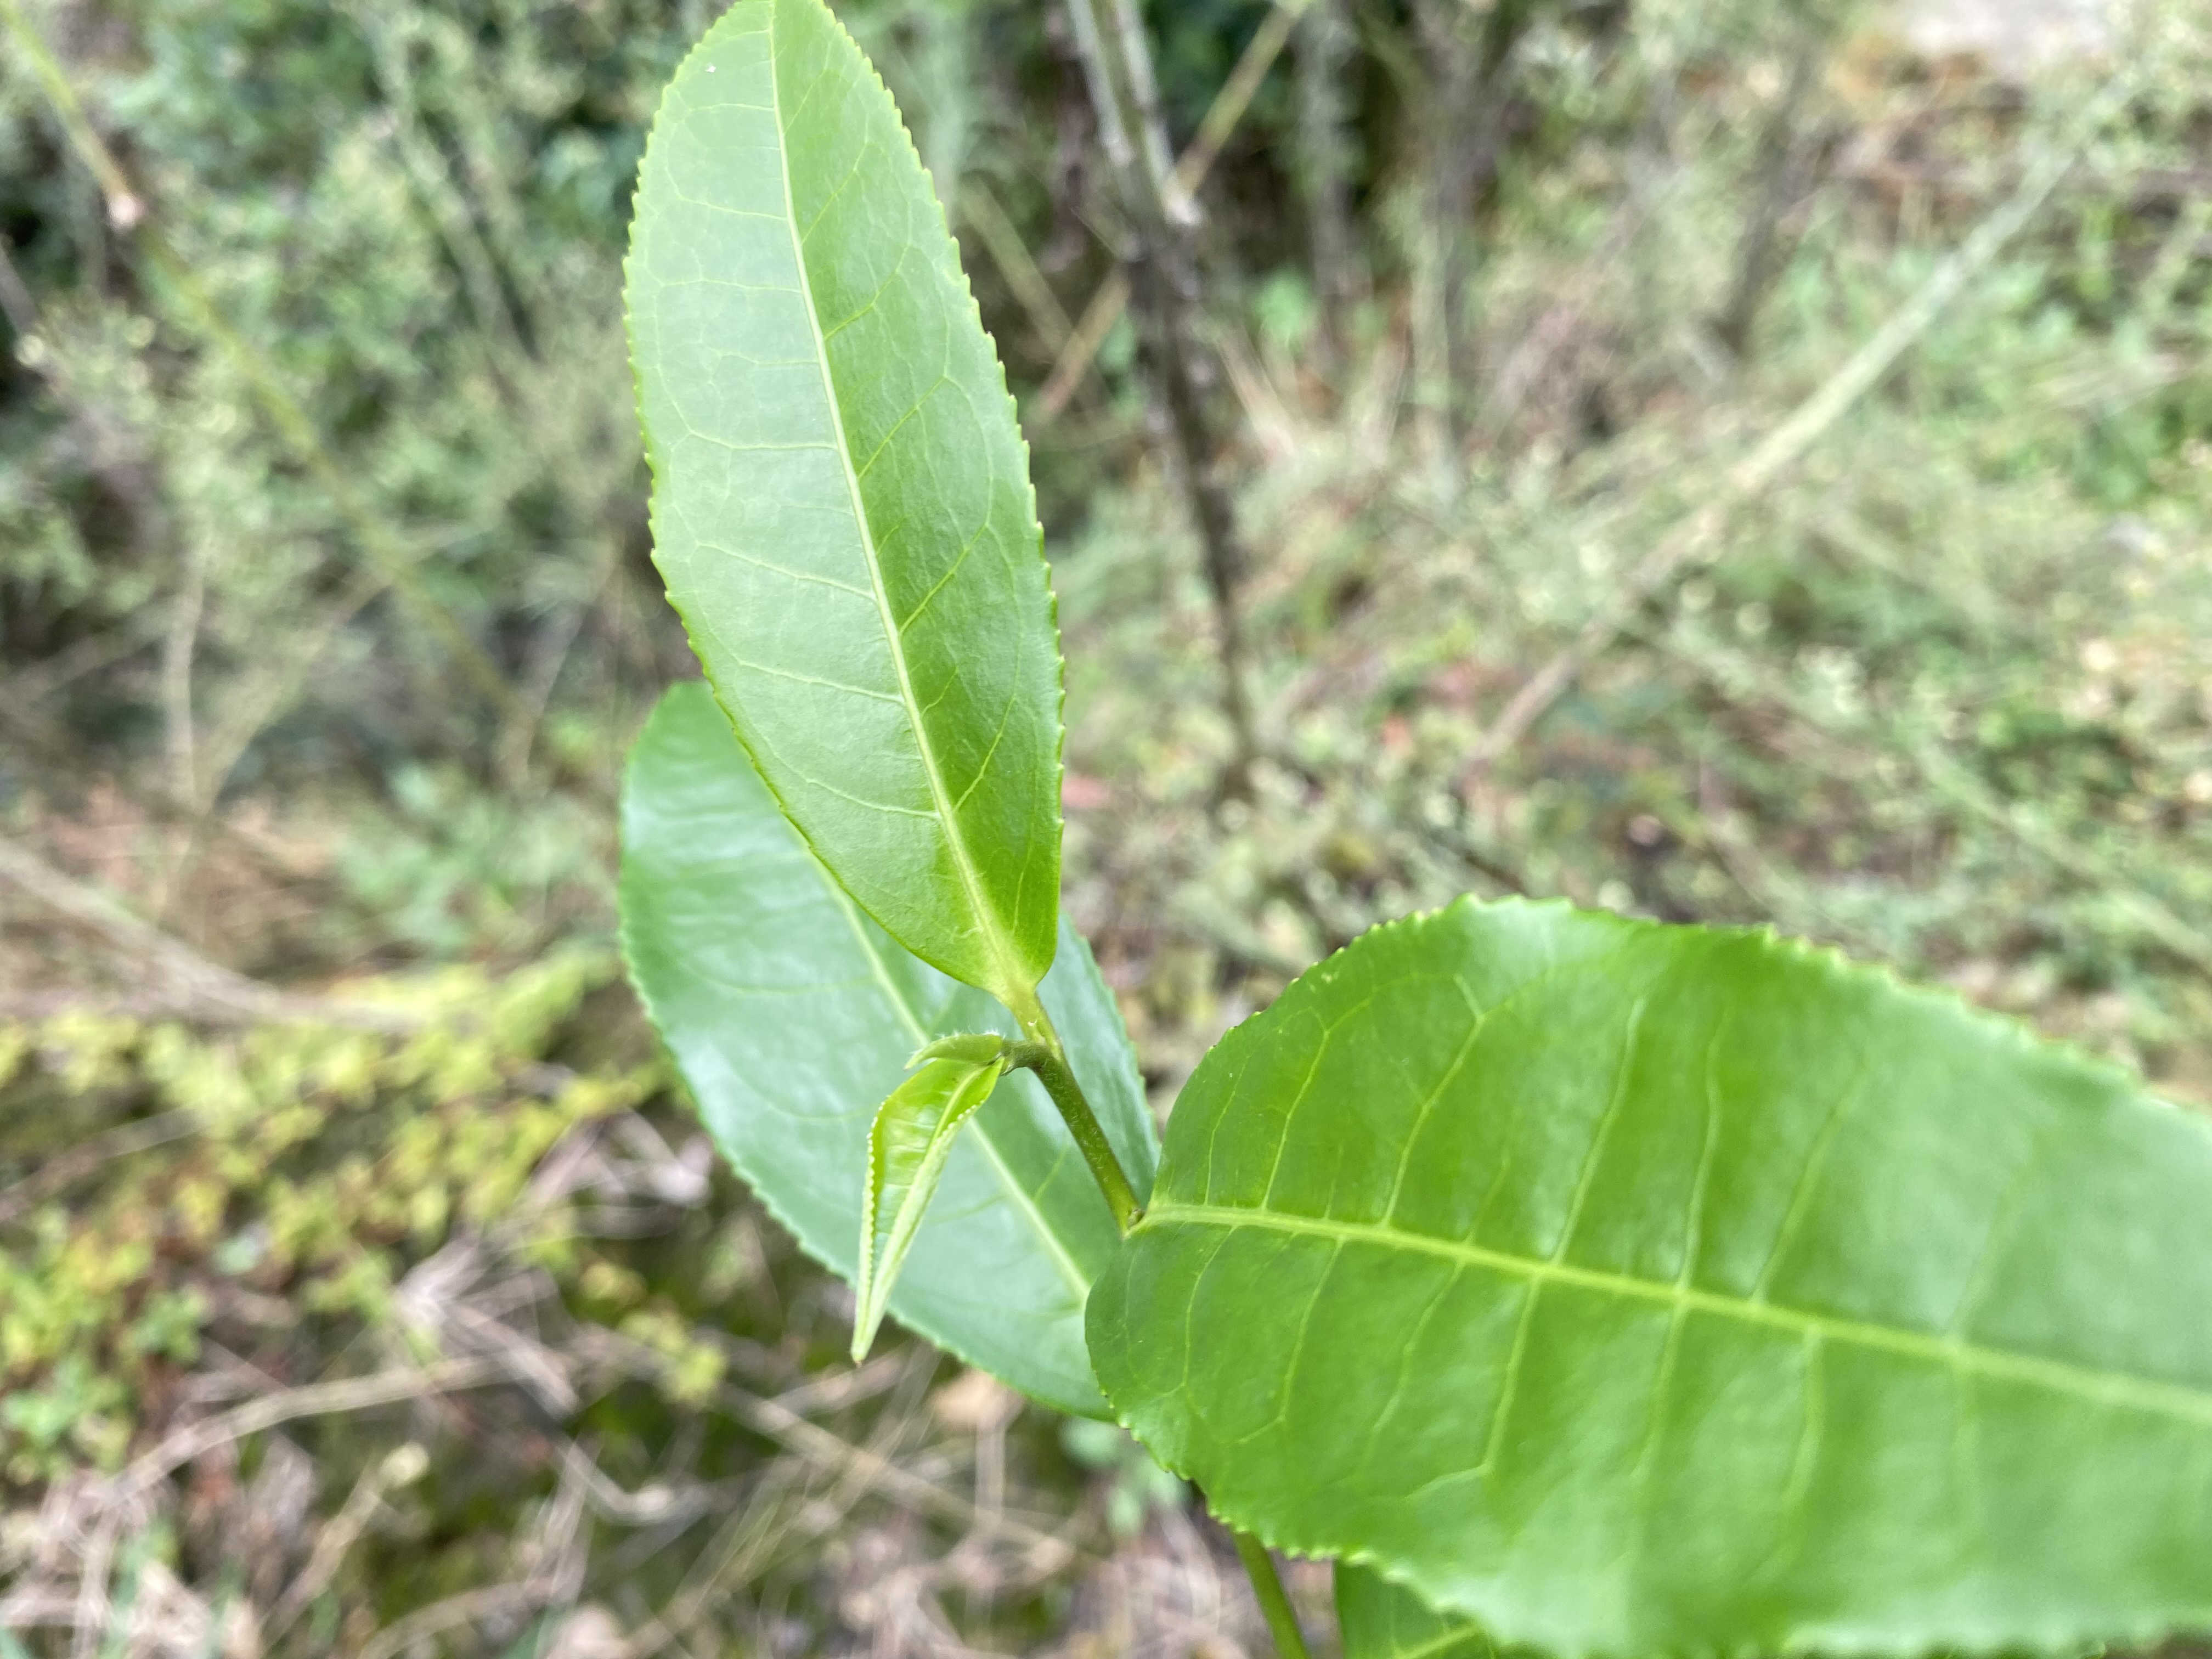healthy: (1083, 889, 2210, 1656), (617, 2, 1068, 990), (613, 678, 1158, 1419)
